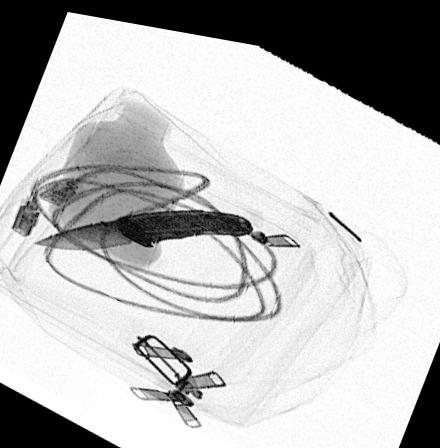Knife: (33, 202, 258, 250)
